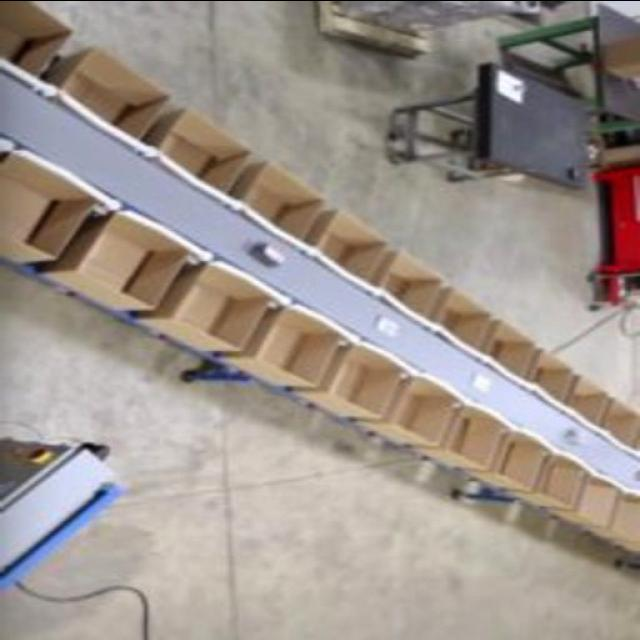conveyor: (0, 63, 640, 490)
